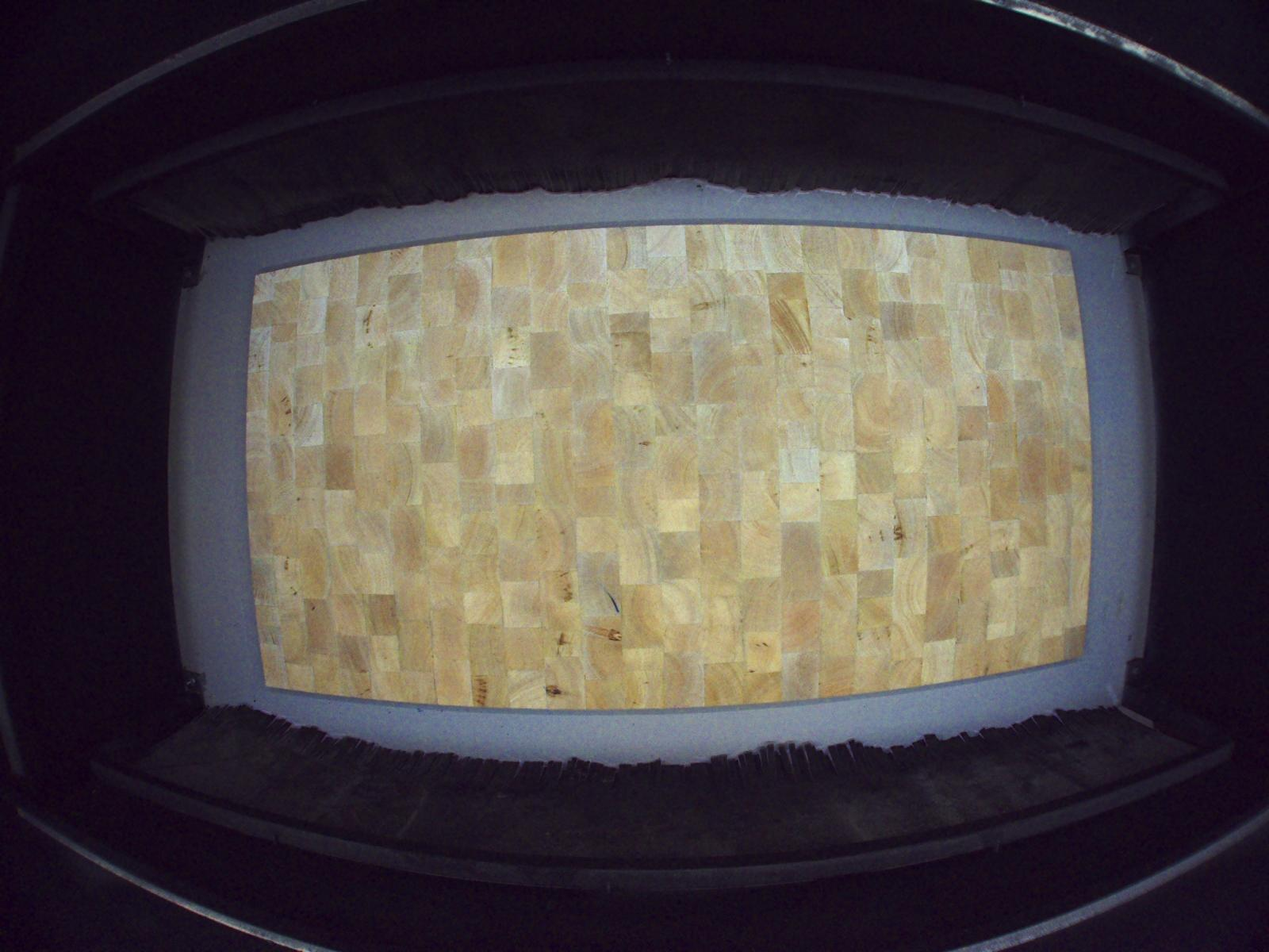nudillo: (582, 623, 622, 644), (545, 684, 570, 700)
sheck_ecuatoriano: (893, 501, 905, 559)
